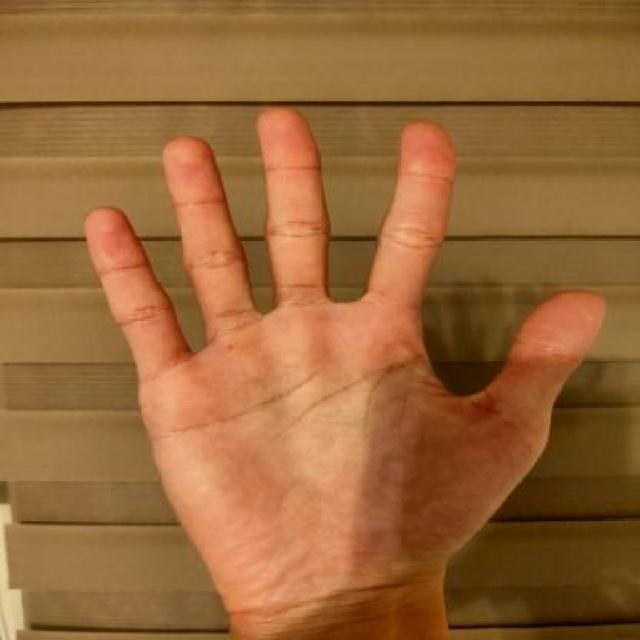bare_hand: (50, 87, 621, 640)
